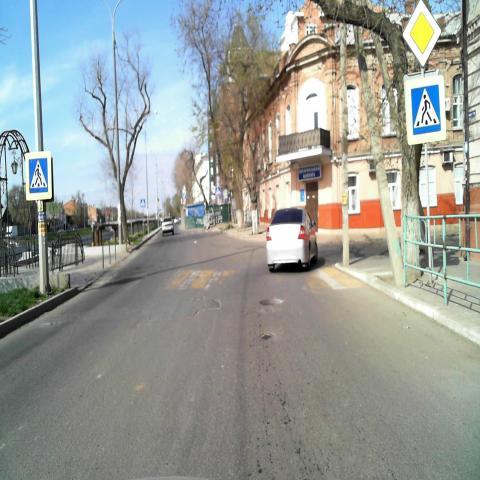2_1: (400, 0, 440, 68)
5_19_1: (404, 69, 446, 145), (26, 153, 52, 198)
